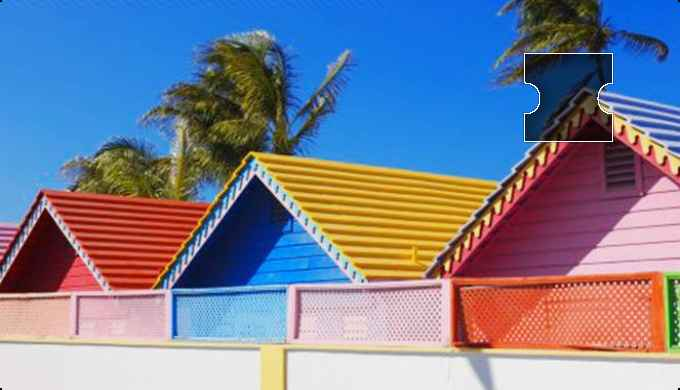gap: (523, 52, 614, 142)
